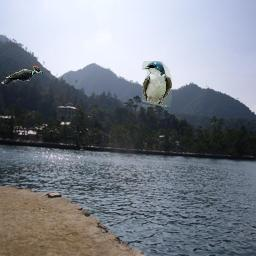Swallow: (142, 61, 172, 107)
Woodpecker: (1, 66, 43, 84)
